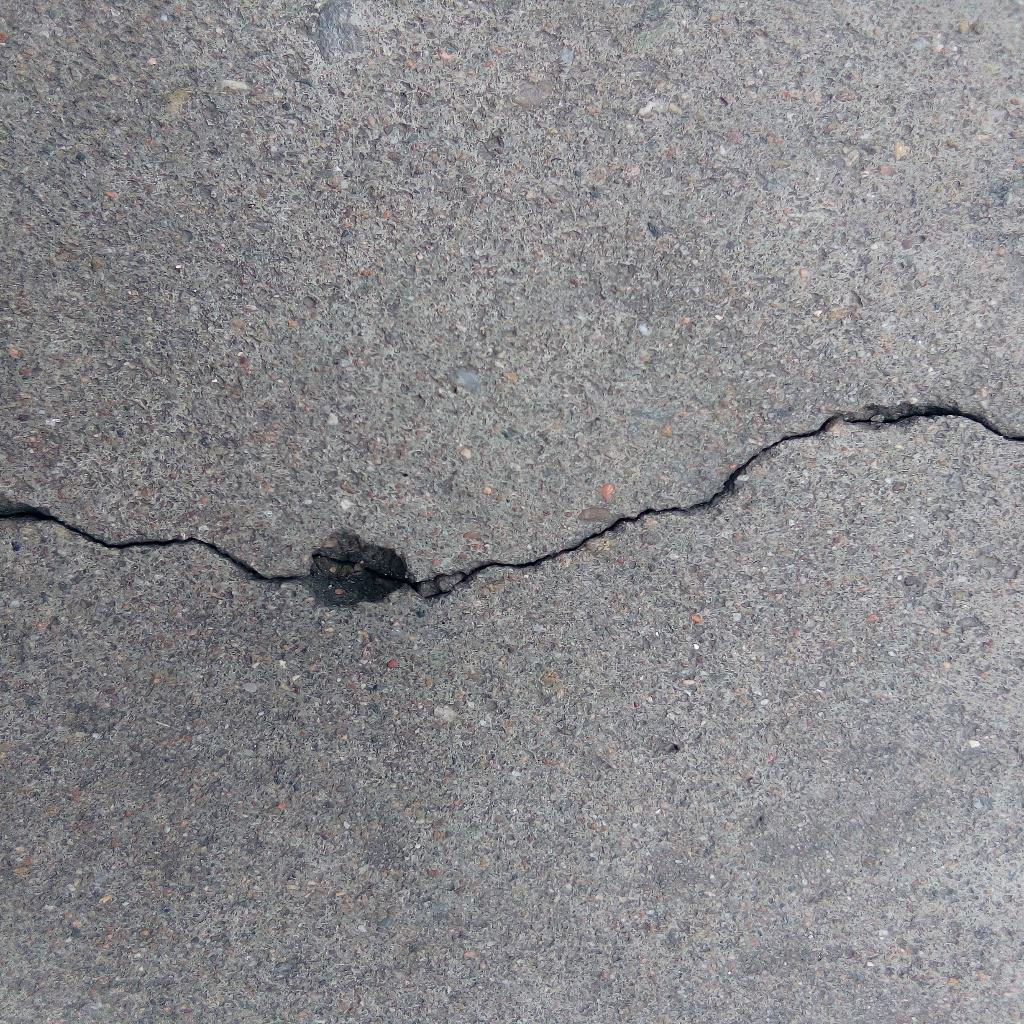Crack: (410, 401, 1024, 603), (1, 492, 309, 583)
Spalling: (309, 527, 410, 607)
